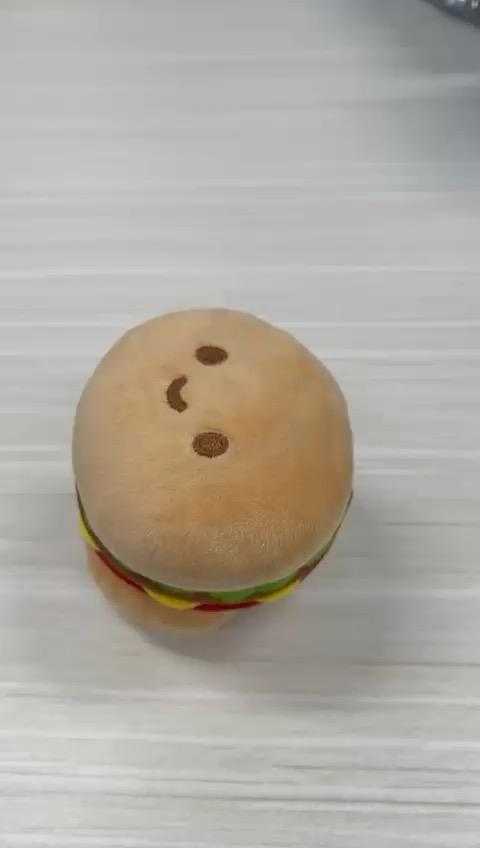hamburger: (73, 310, 356, 633)
